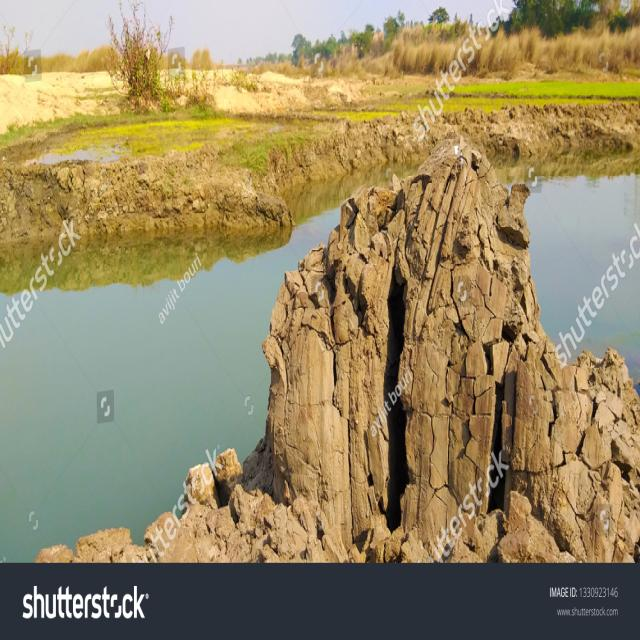Alluvial Soil: (362, 216, 501, 568)
